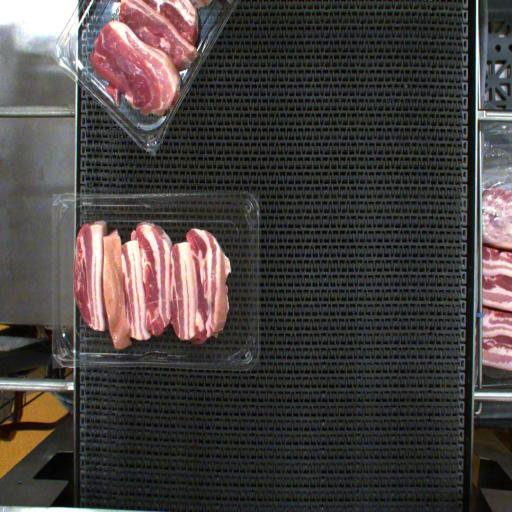twisted-meat: (95, 225, 123, 356)
